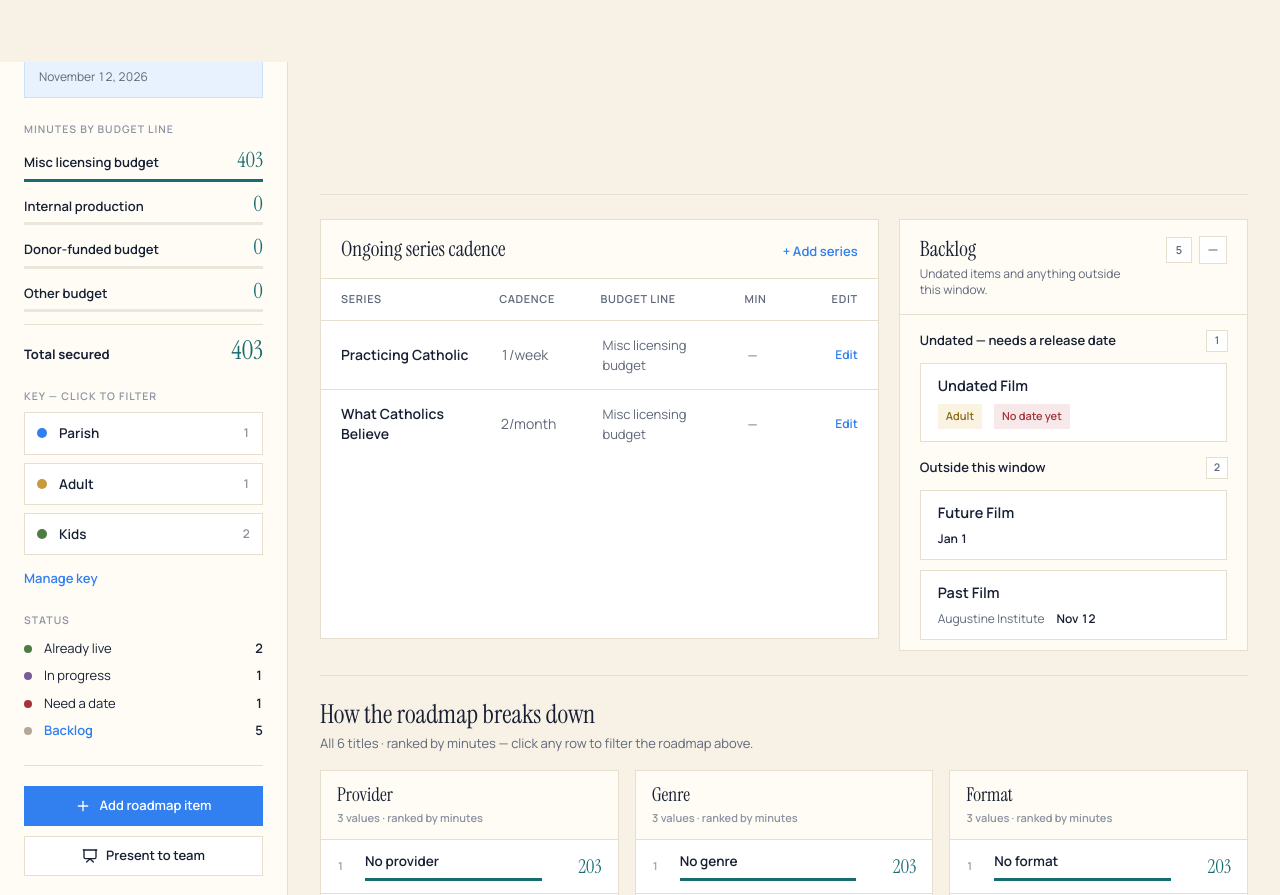
Test case: RoadmapDashboard › caps present mode at six columns for a twelve-month window
(page scrolled)
Click the button "Present to team" at x=144, y=856, box [24, 836, 263, 876]
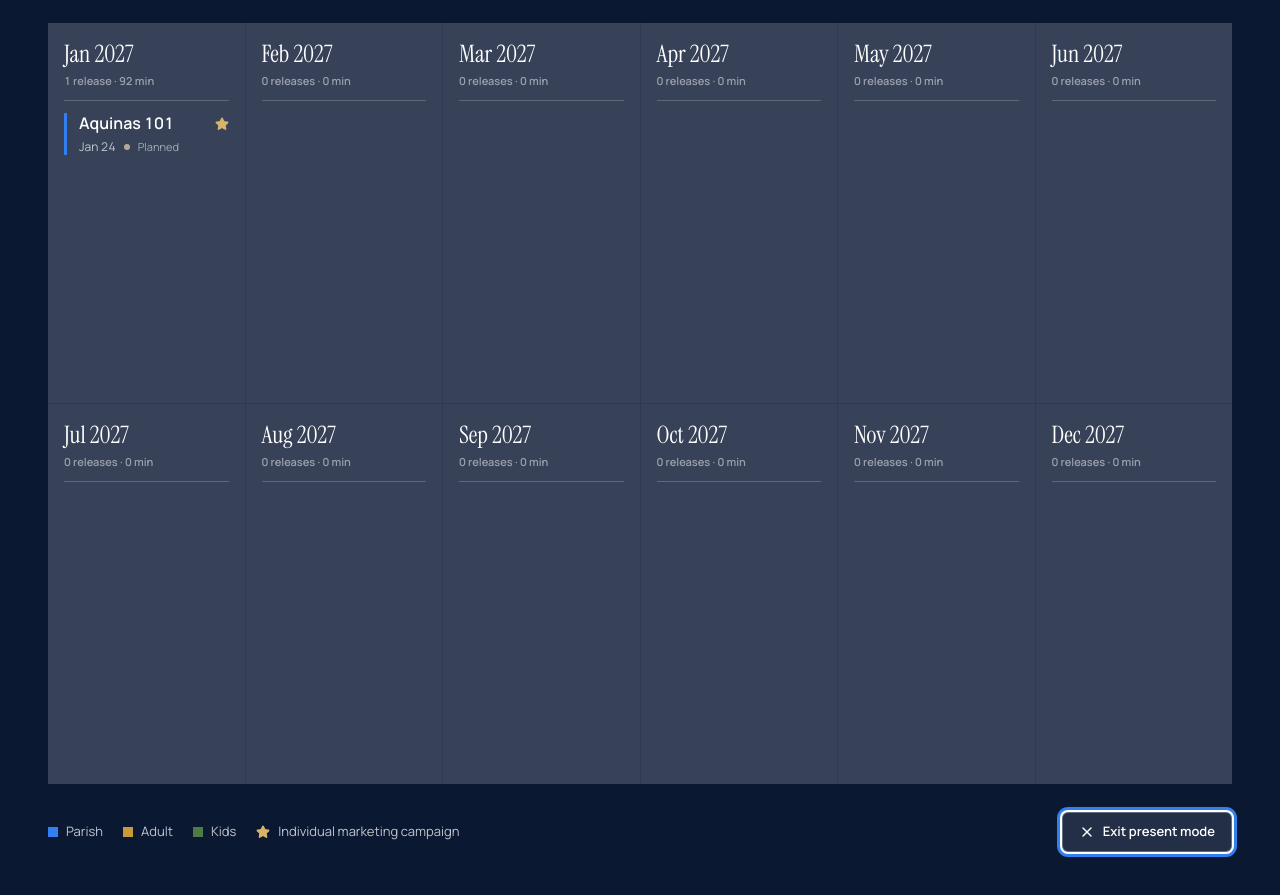
Result: the number of elements with test id "roadmap-present-column" is 12
